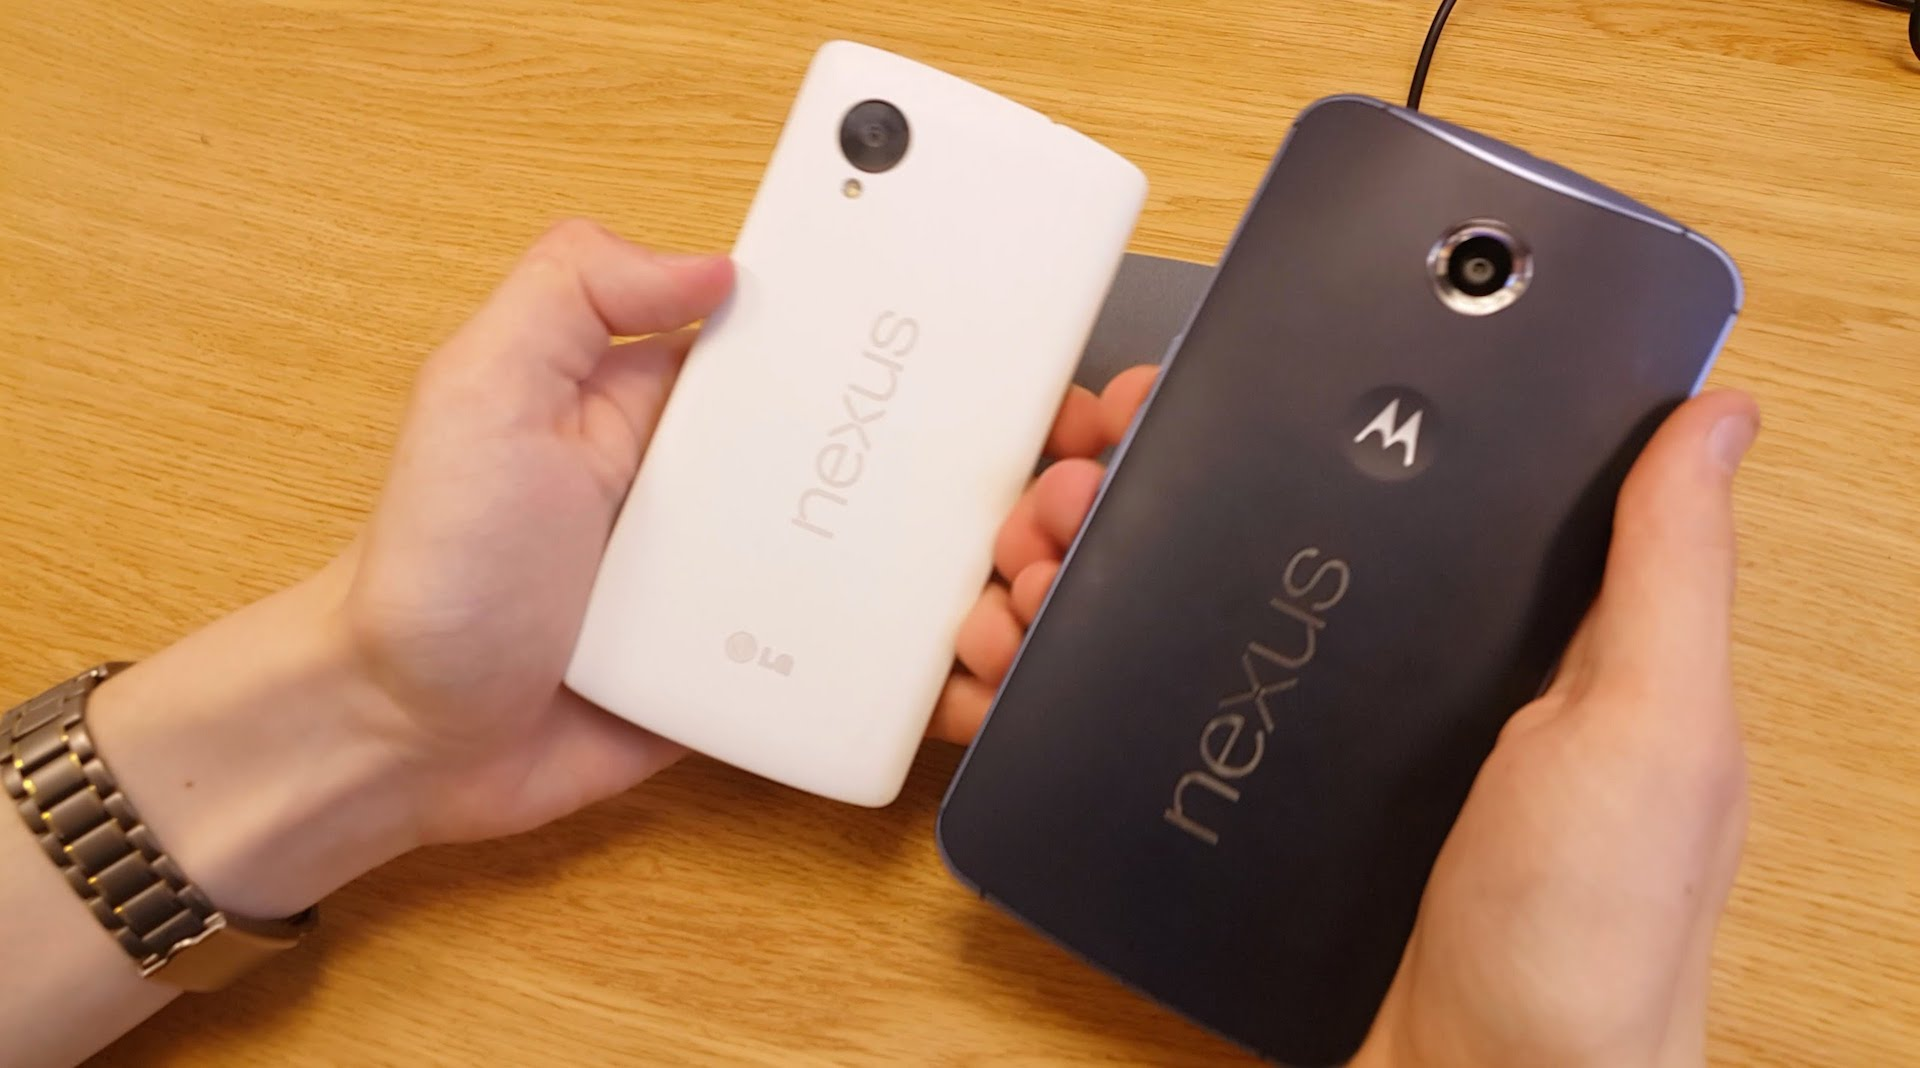smartphone: (931, 89, 1749, 1068), (562, 36, 1153, 812)
